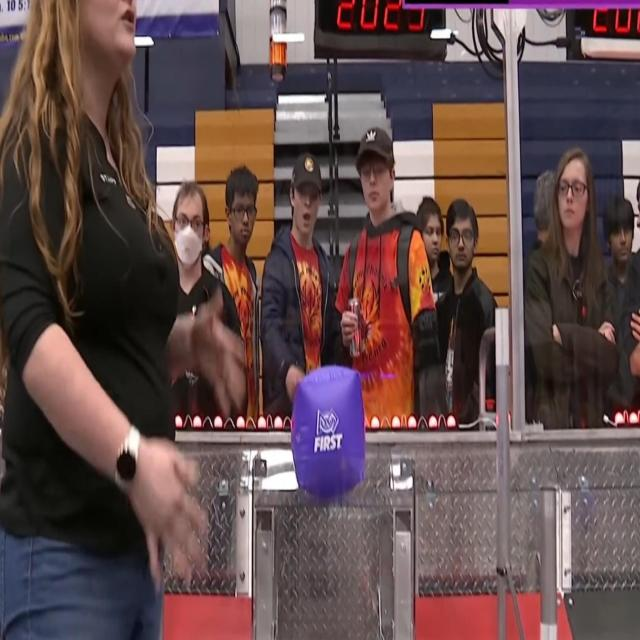frc_cube: (291, 363, 366, 500)
